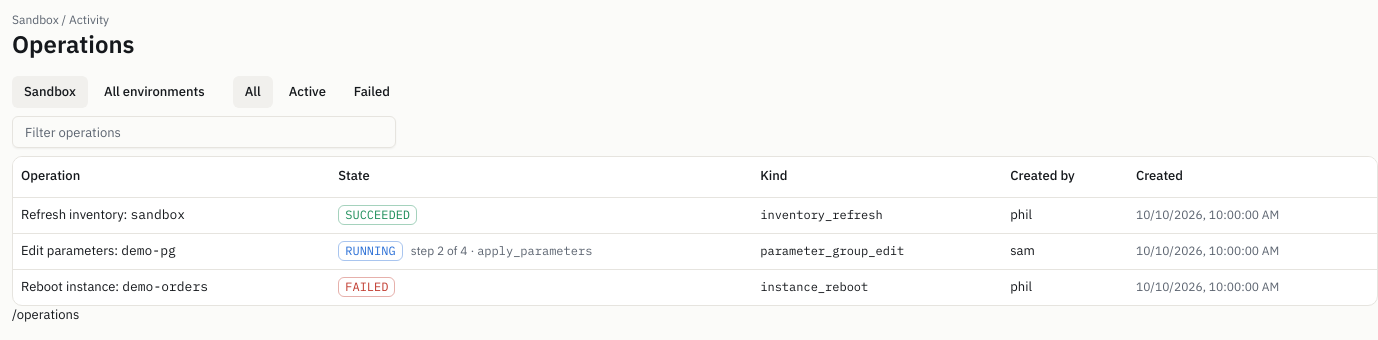
Test: OperationsPage › opens an operation's detail in the right column when its row is opened
Note: Anywhere on the row opens it, not only the title link.
Click the text "parameter_group_edit" at x=832, y=250, box [760,243,904,258]
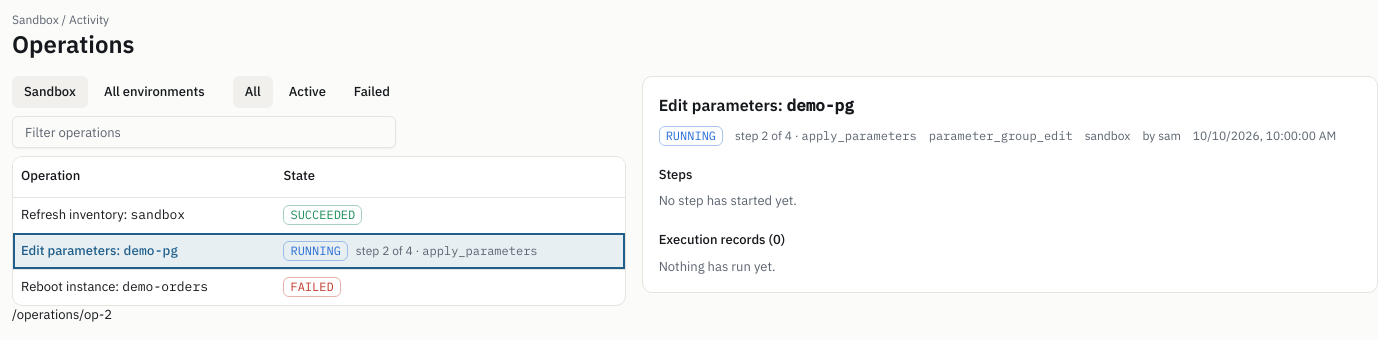
Now the text named "Location" reads "/operations/op-2", box [12,306,112,323]
Now the heading "Edit parameters: demo-pg" is shown, box [659,93,854,118]
